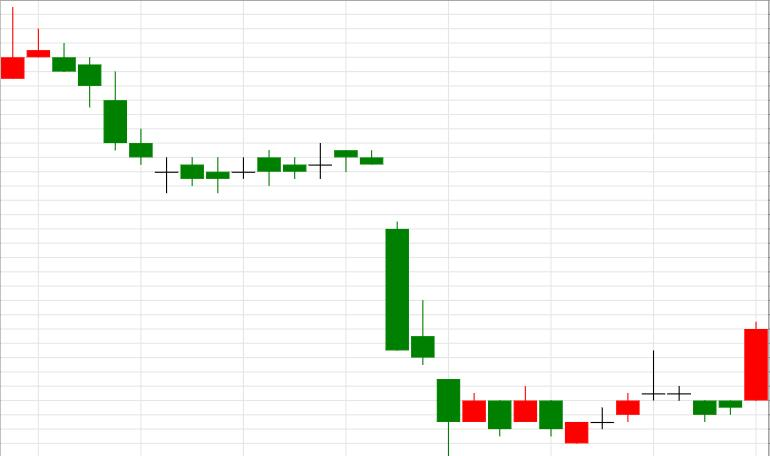inverse_hammer_rise: (258, 142, 434, 364)
